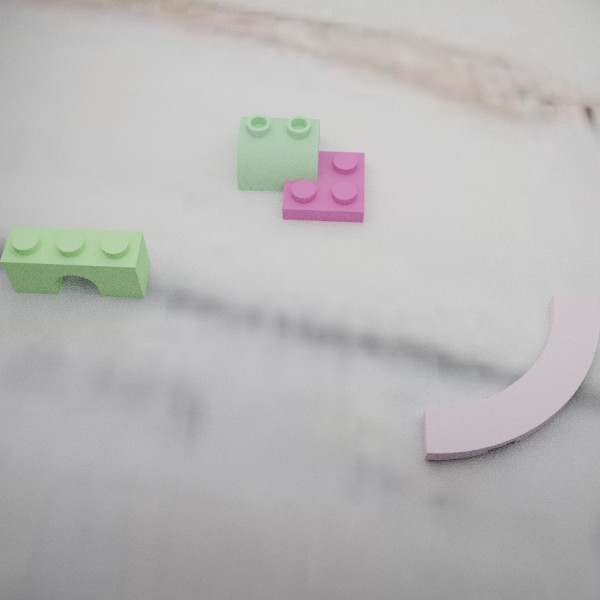lego: (422, 294, 599, 460), (0, 226, 150, 298), (236, 113, 319, 193), (282, 149, 364, 222)
